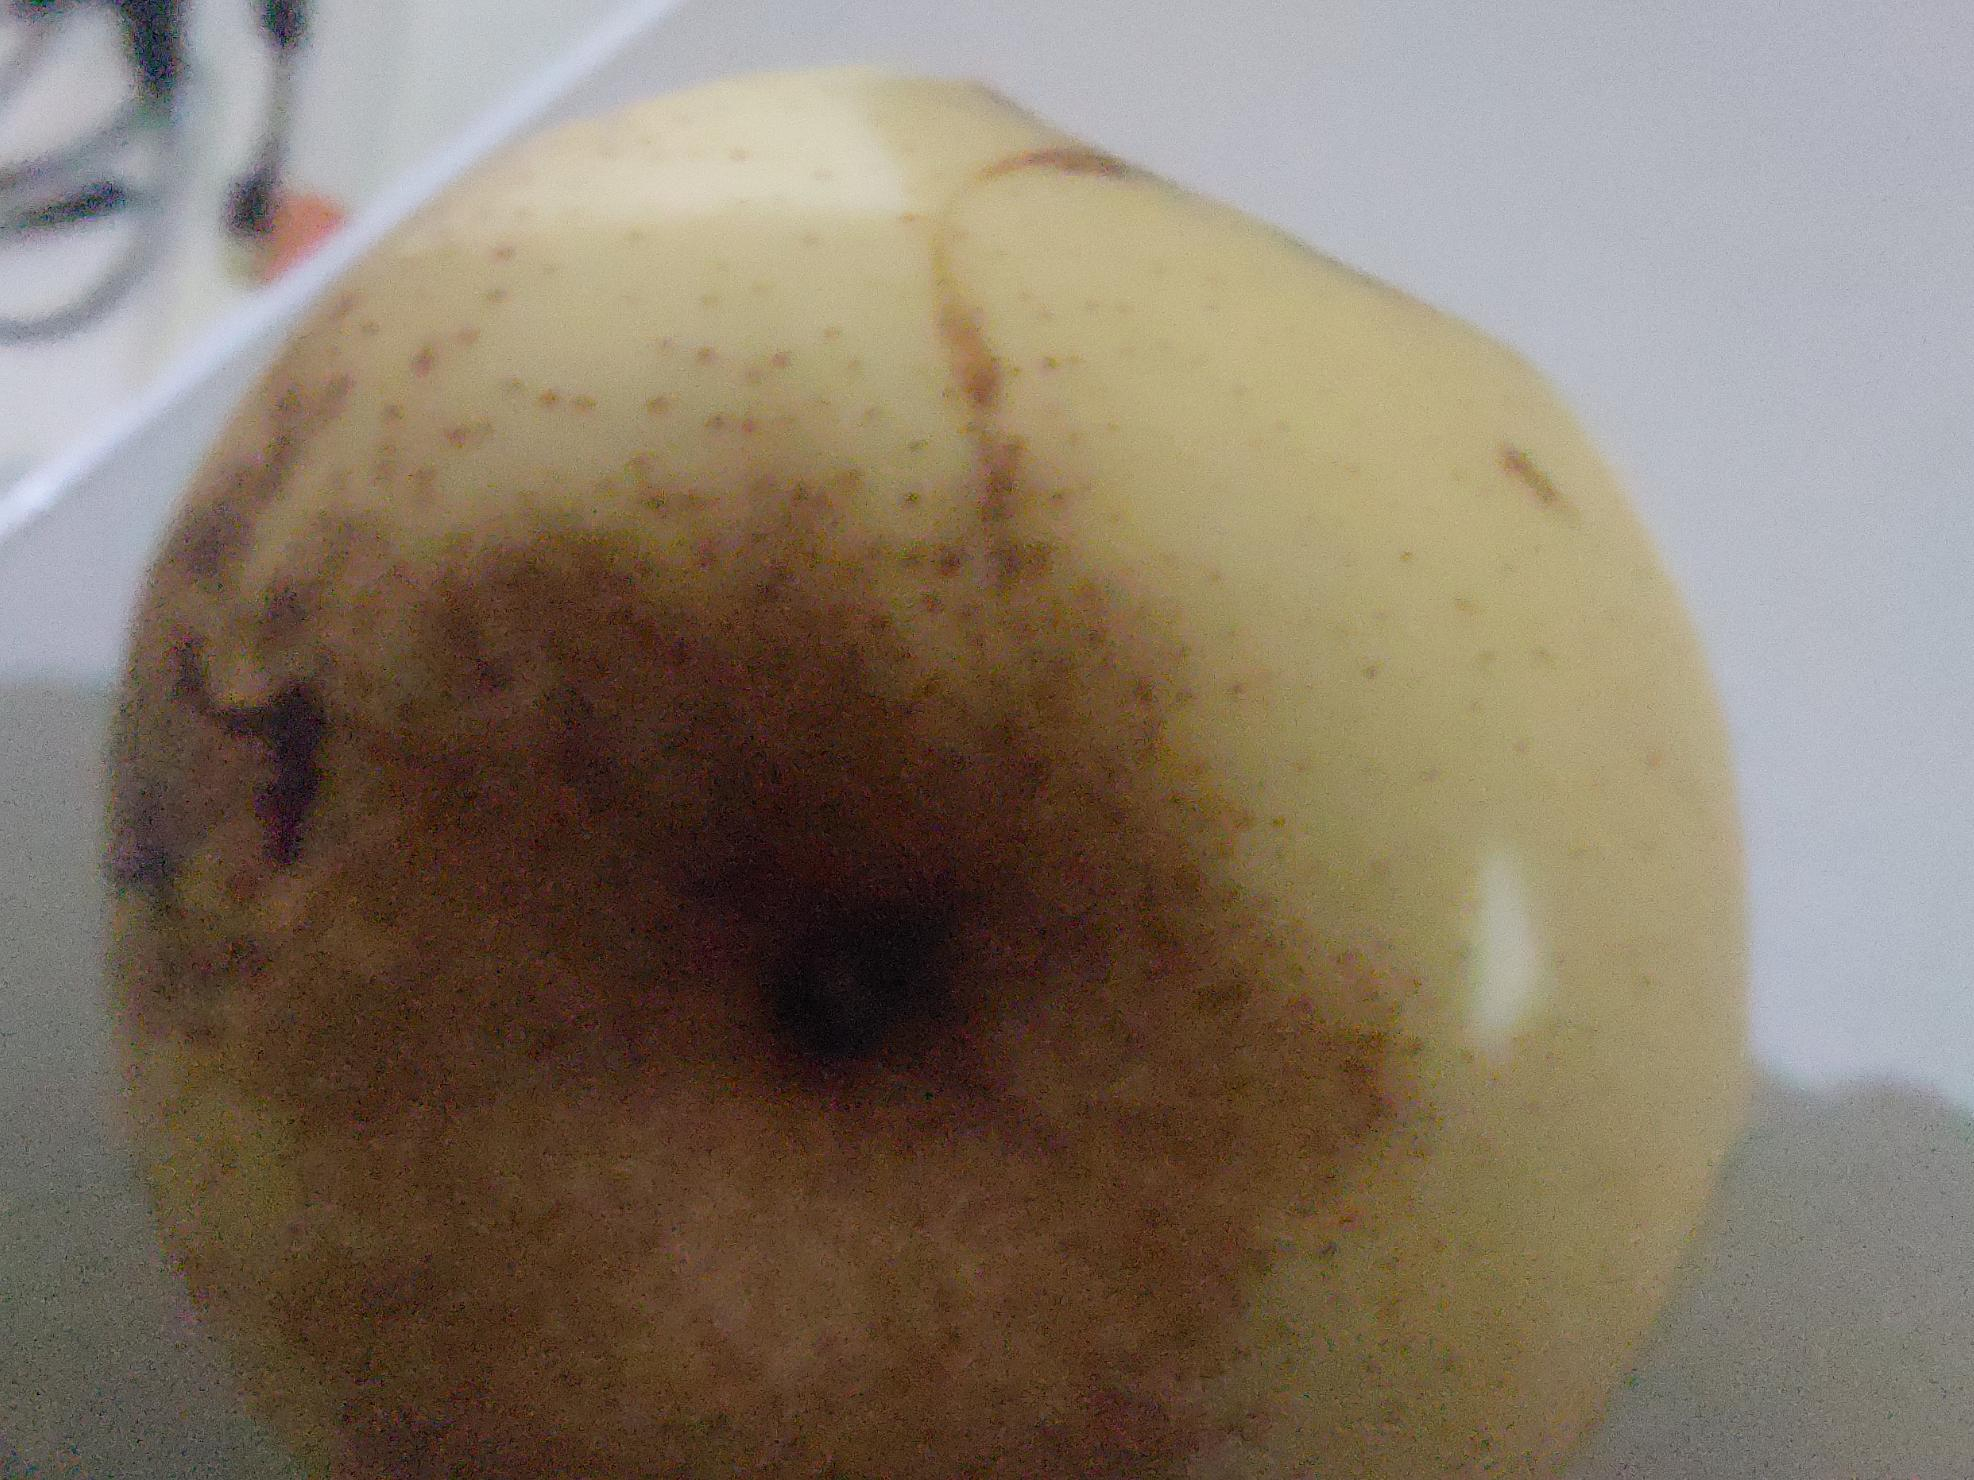Bad Pear: (45, 68, 1753, 1480)
